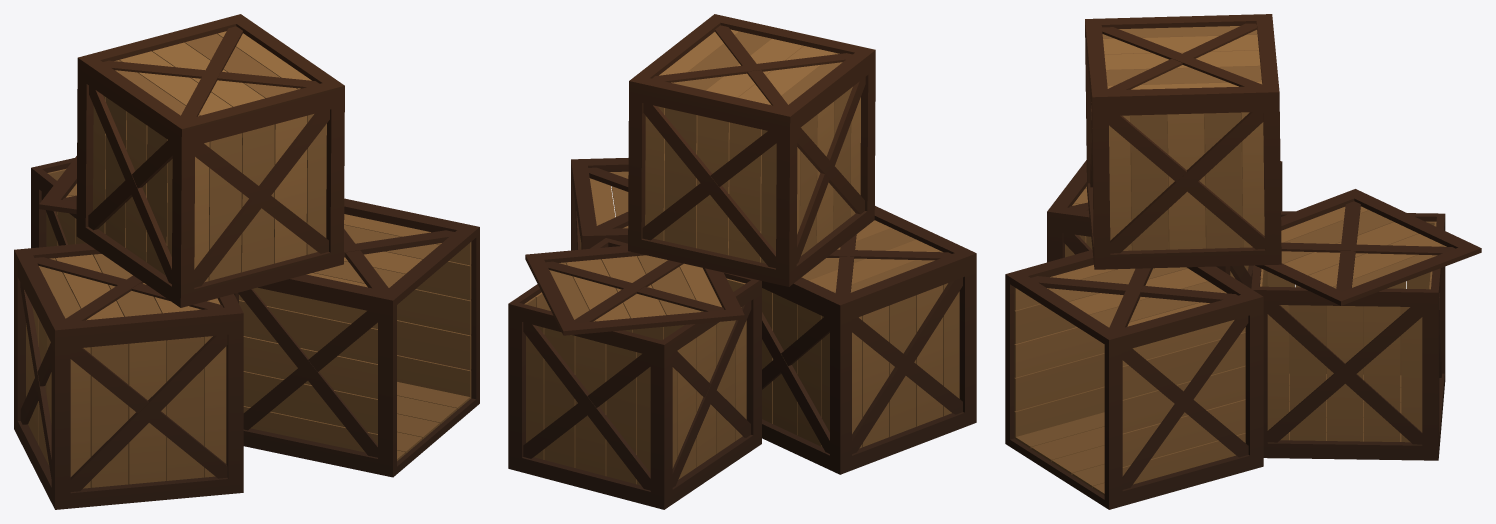
Rendered from Prop_Crate_Box_Pile_02.obj.
The picture shows the model from 3 angles, left to right: view 1: azimuth 30°, elevation 25°; view 2: azimuth 150°, elevation 25°; view 3: azimuth 270°, elevation 25°; orthographic projection. The views are drawn at different scales.
Visible parts, largest first — view 1: Prop_Crate_Box_Pile_02; view 2: Prop_Crate_Box_Pile_02; view 3: Prop_Crate_Box_Pile_02.
Part boxes in pixels (x1=…): Prop_Crate_Box_Pile_02: x1=14, y1=14, x2=479, y2=509; Prop_Crate_Box_Pile_02: x1=508, y1=14, x2=976, y2=509; Prop_Crate_Box_Pile_02: x1=1005, y1=14, x2=1481, y2=509.
Size of the model in its own units: 1.92 by 1.55 by 1.93.
1 material, 1 textured.
